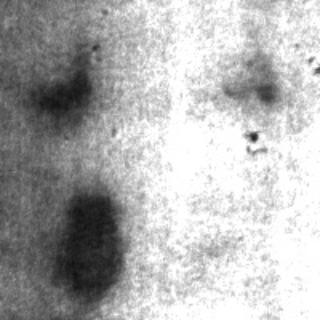patches: (51, 187, 121, 305), (27, 62, 89, 128)
